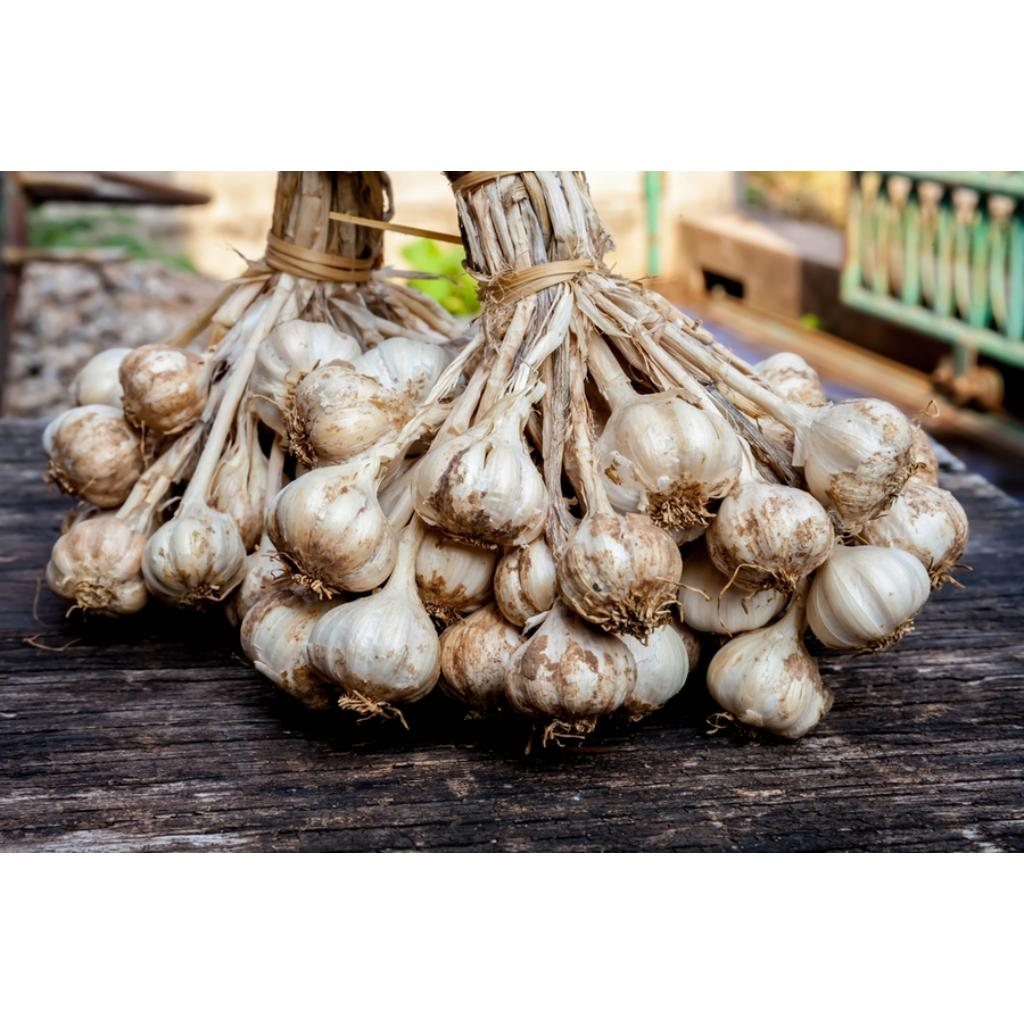garlic: (42, 171, 928, 739), (46, 280, 903, 738), (705, 577, 831, 736)
